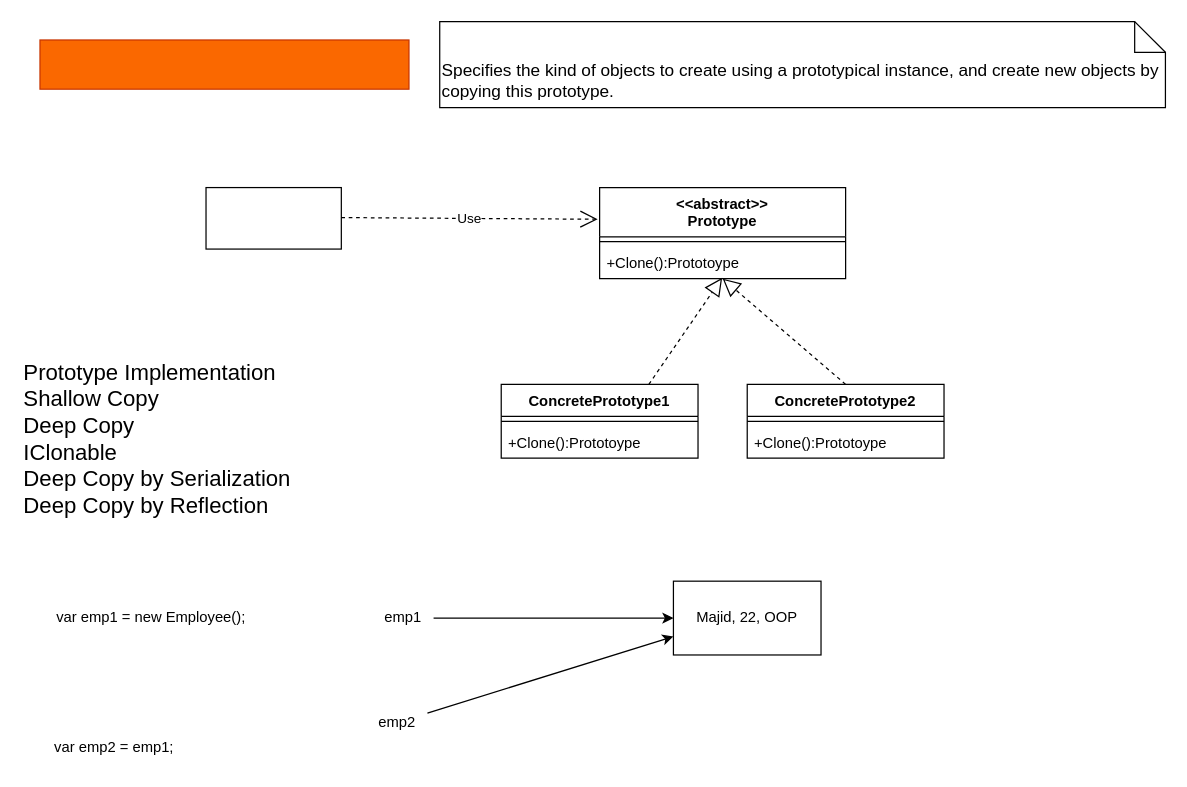
This 1187x787 diagram has some shape labels left out. Each missing label, with the centre of its shape:
"Client" belongs at (x=273, y=217).
"Prototype Design Pattern" belongs at (x=224, y=64).
